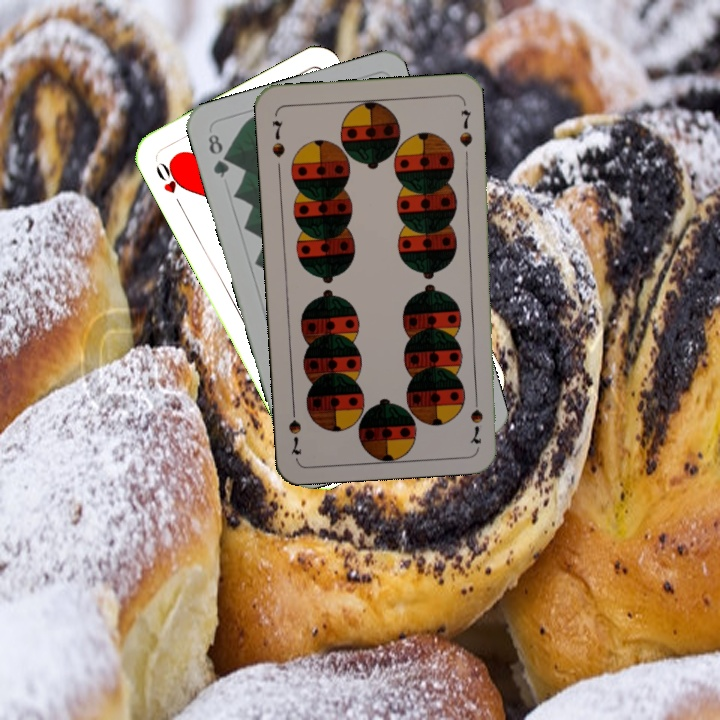G8: (204, 130, 232, 181)
HO: (151, 157, 188, 211)
S7: (268, 116, 287, 160), (466, 388, 486, 426)
